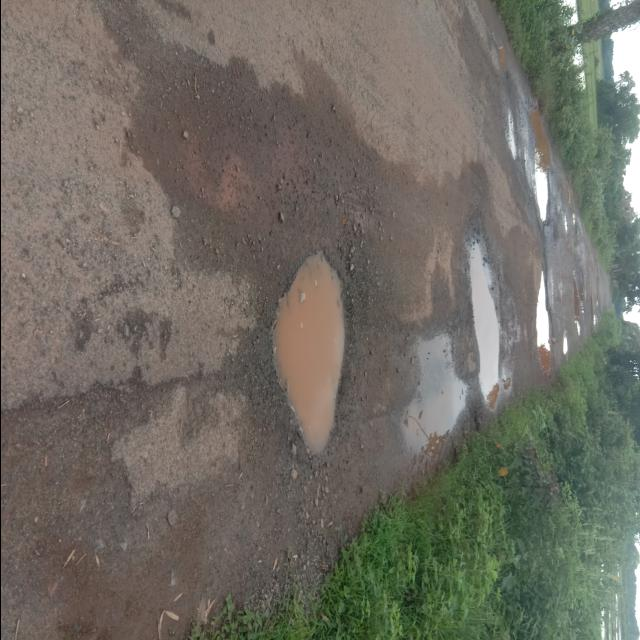potholes: (395, 232, 517, 464), (268, 248, 351, 466), (519, 100, 551, 228), (528, 268, 556, 370), (498, 84, 524, 164), (554, 183, 578, 257), (558, 320, 580, 370)
